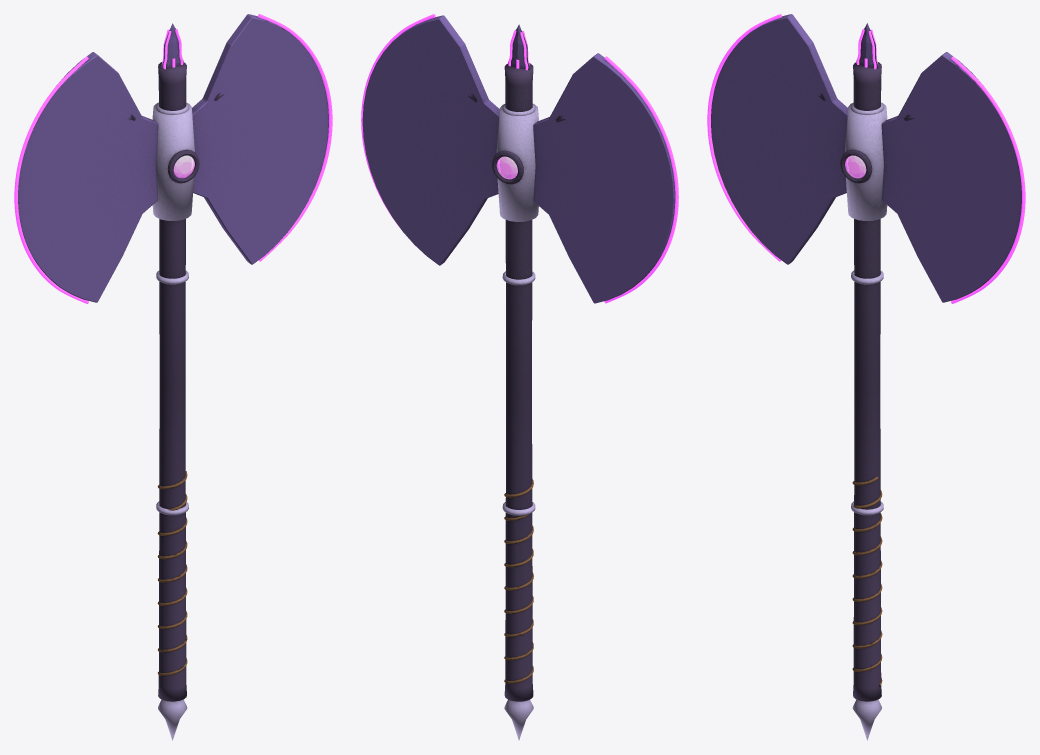
The model's file is arma_lend_machado_gigante_vazio.glb.
3 renders of one model, left to right at view 1: azimuth 30°, elevation 25°; view 2: azimuth 150°, elevation 25°; view 3: azimuth 330°, elevation 25°, orthographic.
Visible parts, largest first — view 1: arma_lend_machado_gigante_vazio, gume-1, gume1; view 2: arma_lend_machado_gigante_vazio, gume-1, gume1; view 3: arma_lend_machado_gigante_vazio, gume1, gume-1.
Part boxes in pixels (left/top/right/bottom): arma_lend_machado_gigante_vazio: left=18, top=14, right=328, bottom=740; gume-1: left=14, top=56, right=88, bottom=303; gume1: left=258, top=14, right=332, bottom=261; arma_lend_machado_gigante_vazio: left=362, top=15, right=675, bottom=740; gume-1: left=604, top=56, right=678, bottom=303; gume1: left=361, top=14, right=435, bottom=226; arma_lend_machado_gigante_vazio: left=711, top=14, right=1021, bottom=740; gume1: left=951, top=56, right=1025, bottom=303; gume-1: left=707, top=14, right=781, bottom=261.
Bounding box in the file's own units: 0.7923 × 1.71 × 0.1142.
11 materials, 1 textured.
